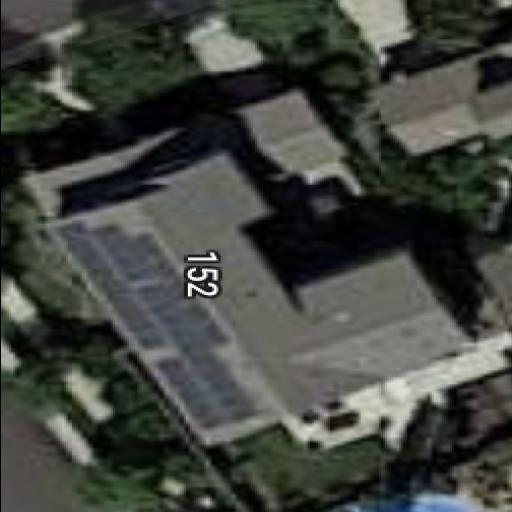Solar-Slope-Roof: (42, 154, 470, 451)
